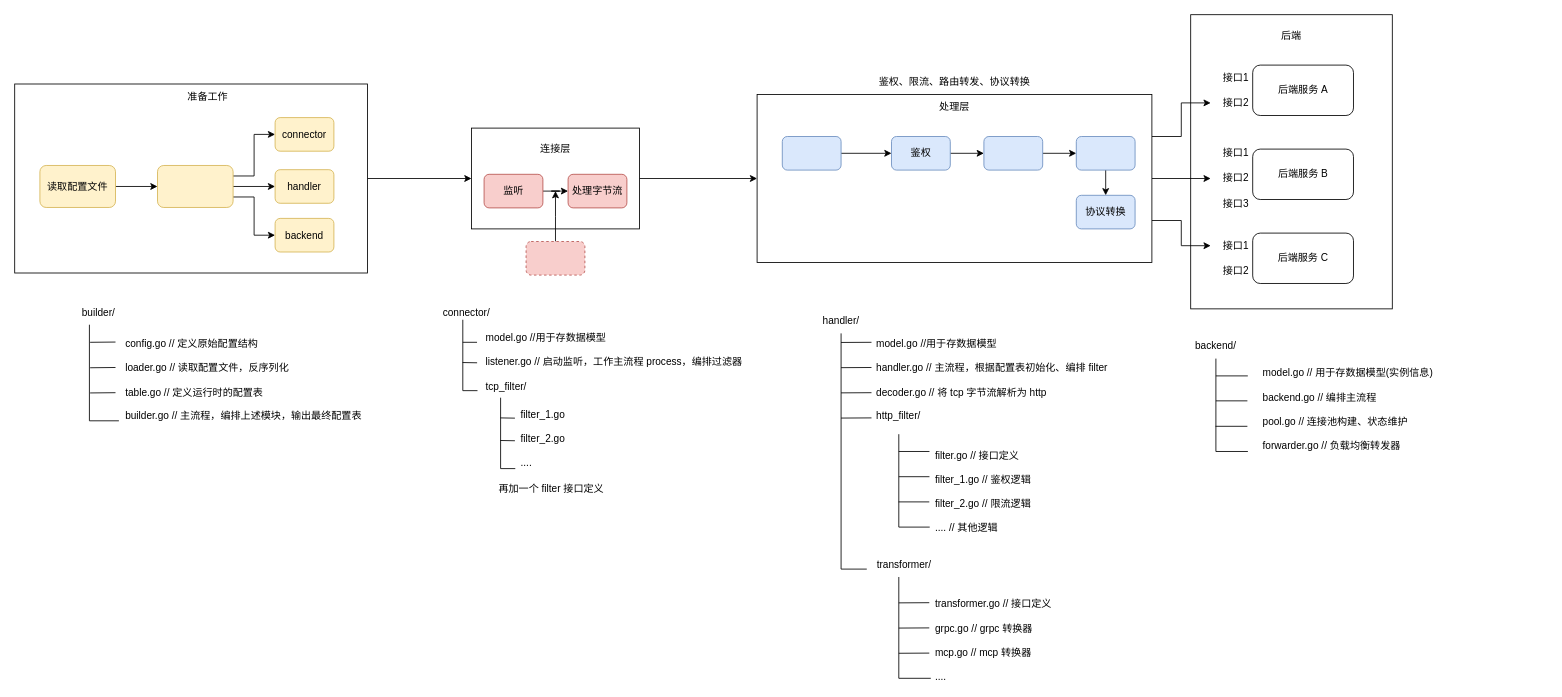
The diagram is 1562 pixels wide and 697 high, and some of its shapes have lost their labels. Each missing label, with the centre of its shape:
"tcp 过滤器" belongs at point 555,258.
"构建配置表" belongs at point 195,186.
"解析为 http" belongs at point 811,153.
"路由" belongs at point 1105,153.
"限流" belongs at point 1013,153.
